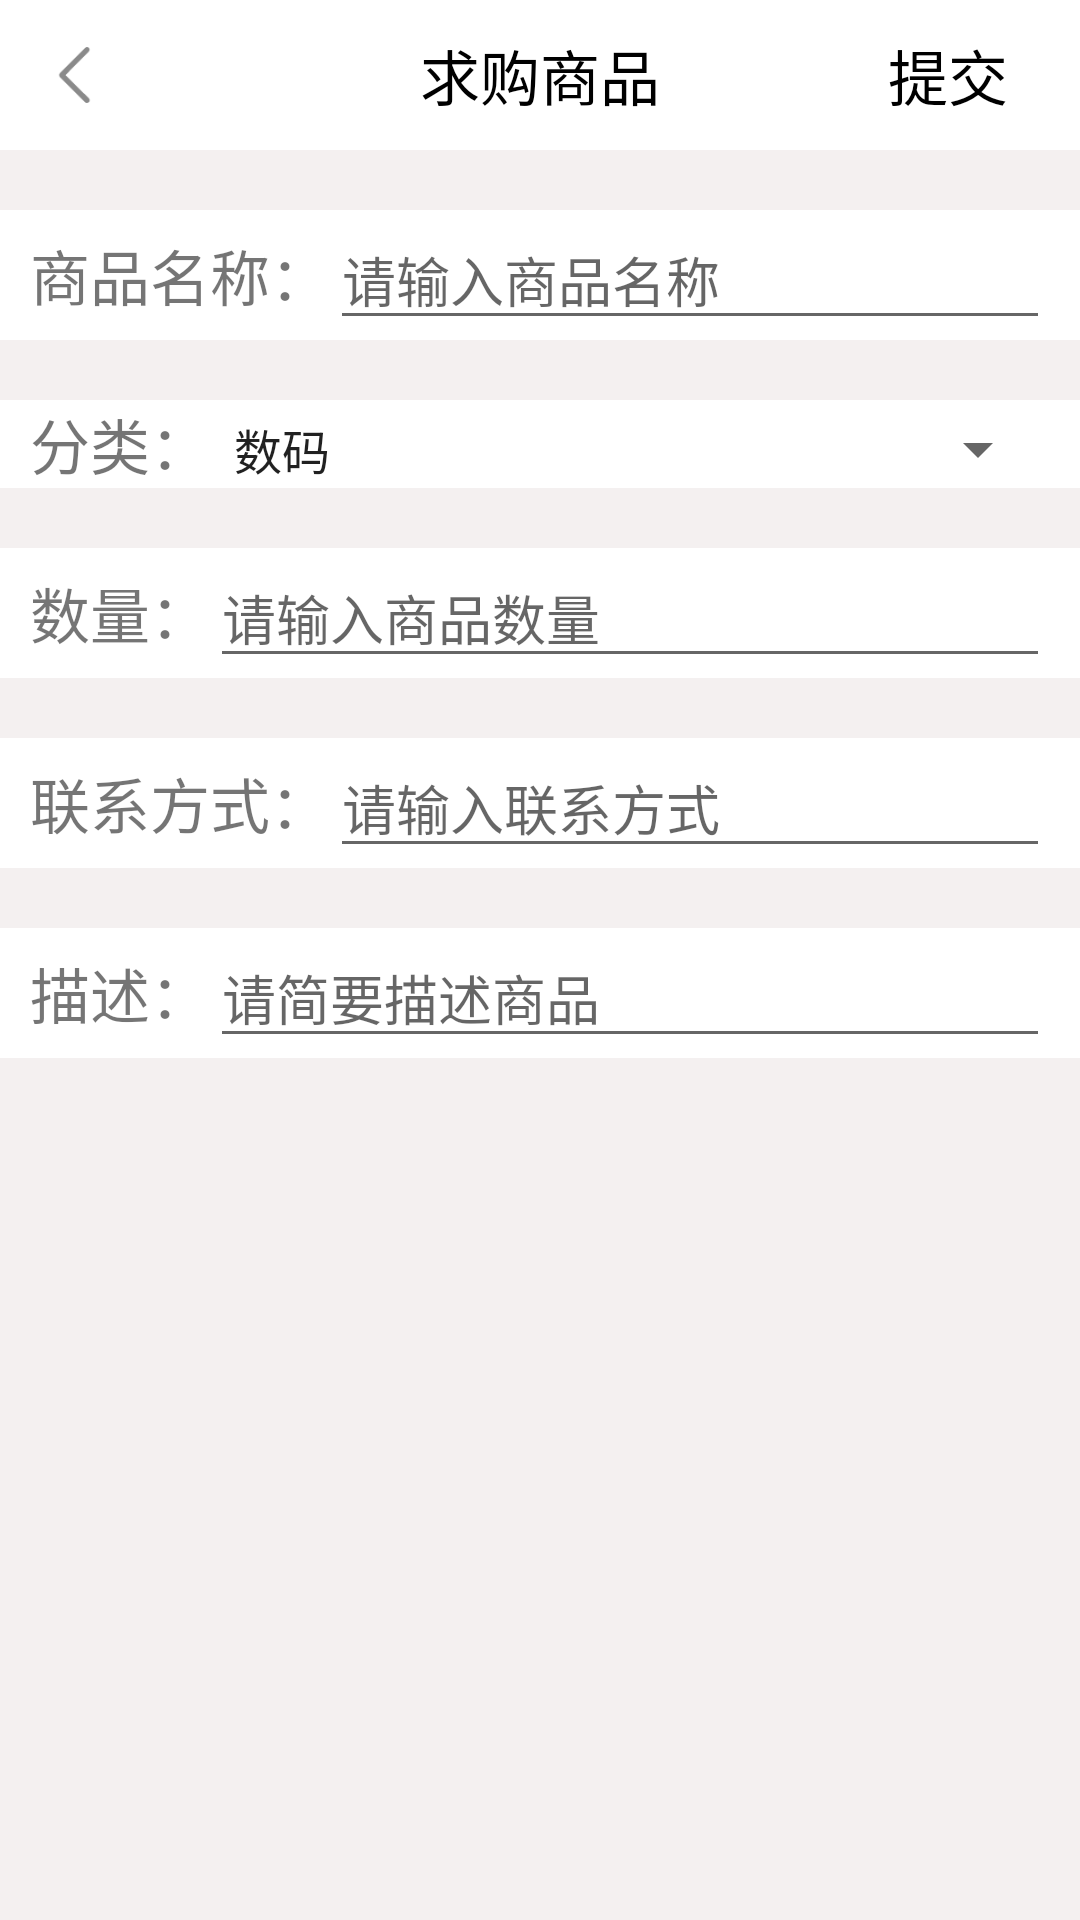

Icon click points for this 1080×1920 phone screenshot, format (x=x, y=y):
arrow back: (x=74, y=75)
